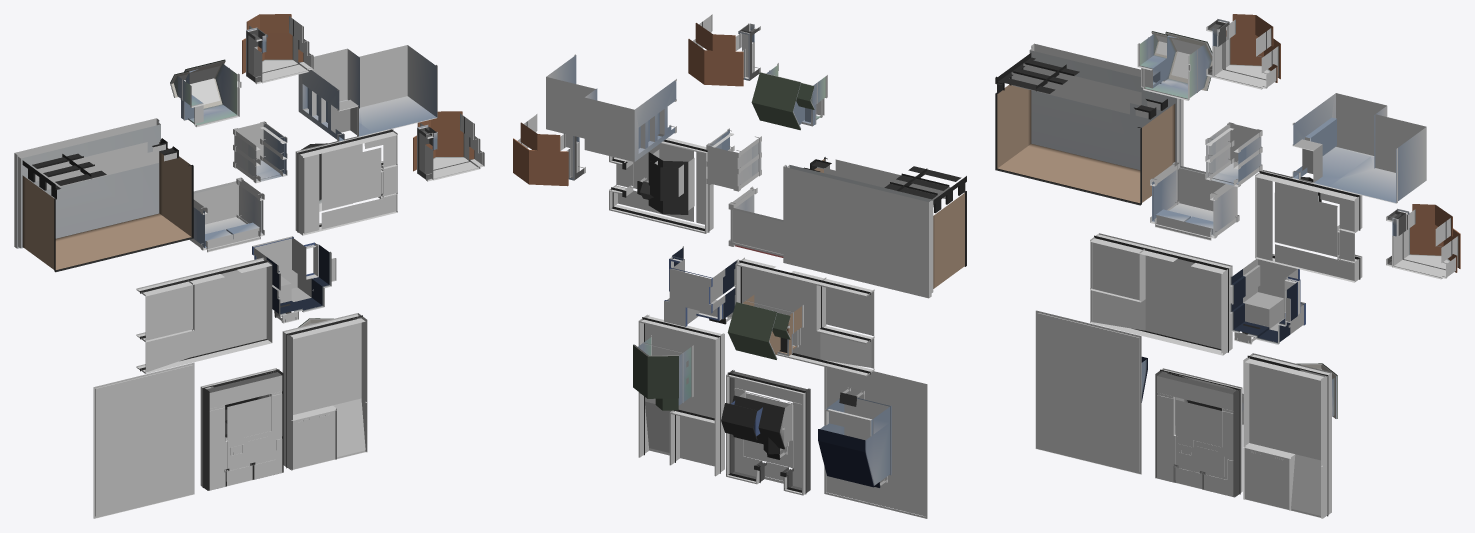
File: SM_000272_merge_w40h101_atlas1_1_2_ground_lv4.fbx
The picture shows the model from 3 angles, left to right: view 1: azimuth 30°, elevation 25°; view 2: azimuth 150°, elevation 25°; view 3: azimuth 330°, elevation 25°; orthographic projection. The views are drawn at different scales.
Parts seen in each view (by area): view 1: SM_000272.001; view 2: SM_000272.001; view 3: SM_000272.001.
Boxes of the visible parts, x1=… form: SM_000272.001: x1=14, y1=14, x2=484, y2=518; SM_000272.001: x1=513, y1=14, x2=966, y2=518; SM_000272.001: x1=995, y1=14, x2=1460, y2=518.
Size of the model in its own units: 74.19 by 72.8 by 12.16.
